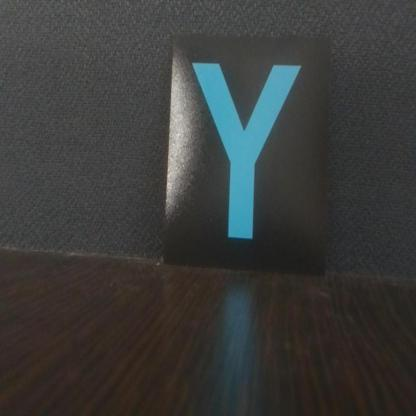y: (174, 38, 326, 260)
